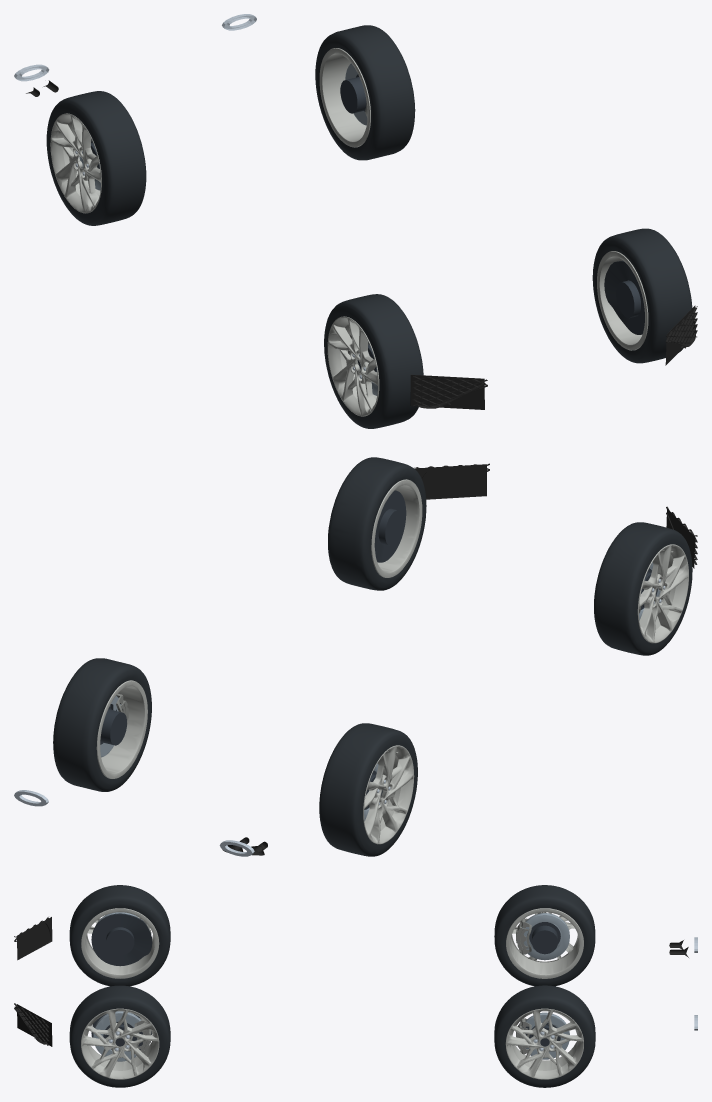
The model's file is wheel-role-mirae-gt.glb.
3 renders of one model, top to bottom at view 1: azimuth 30°, elevation 25°; view 2: azimuth 150°, elevation 25°; view 3: azimuth 270°, elevation 25°, orthographic. The views are drawn at different scales.
Parts seen in each view (by area): view 1: Object_12, Object_292, Object_24, Object_160; view 2: Object_12, Object_292, Object_24, Object_160; view 3: Object_12, Object_292, Object_24, Object_152, Object_308.
Boxes of the visible parts, x1,y1,x2,y2 form: Object_12: (26, 25, 697, 428); Object_292: (50, 48, 648, 416); Object_24: (91, 74, 644, 371); Object_160: (14, 14, 365, 378); Object_12: (53, 457, 697, 856); Object_292: (96, 479, 688, 844); Object_24: (100, 490, 657, 809); Object_160: (14, 579, 665, 856); Object_12: (14, 885, 688, 1087); Object_292: (81, 908, 583, 1079); Object_24: (91, 913, 560, 1049); Object_152: (93, 912, 569, 1061); Object_308: (134, 918, 531, 1054).
Size of the model in its own units: 4.69 by 1.73 by 11.69.
Materials: 6 (6 with a texture image).
